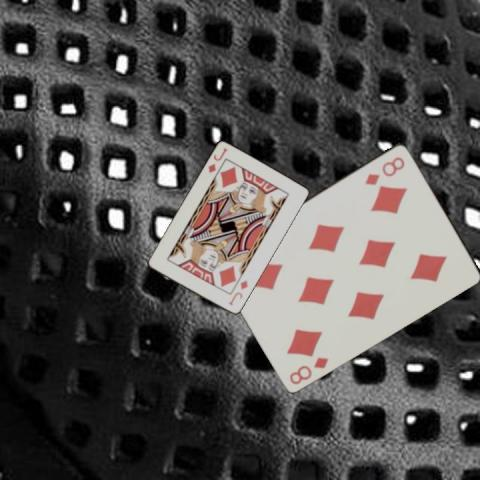8d: (362, 153, 407, 186), (286, 353, 330, 386)
Jd: (226, 277, 250, 307), (204, 145, 228, 174)
